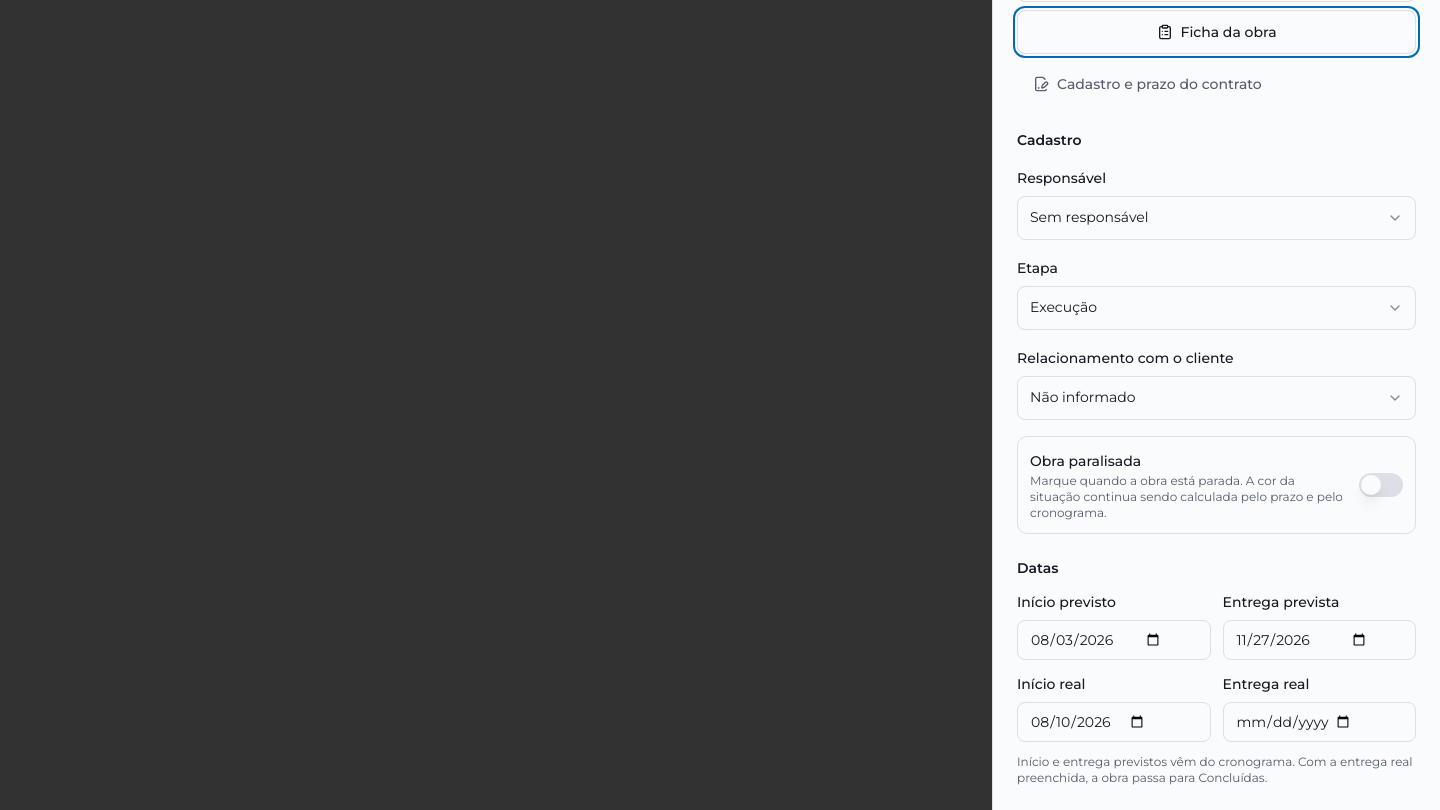
Test case: ObraDrawer › data prevista (vem do cronograma) pede confirmação antes de gravar
Later steps or results of the test are not shown.
(page scrolled)
Type "2026-12-04" into the date field labelled "Entrega prevista" at (1319, 640), box [1222, 620, 1416, 660]
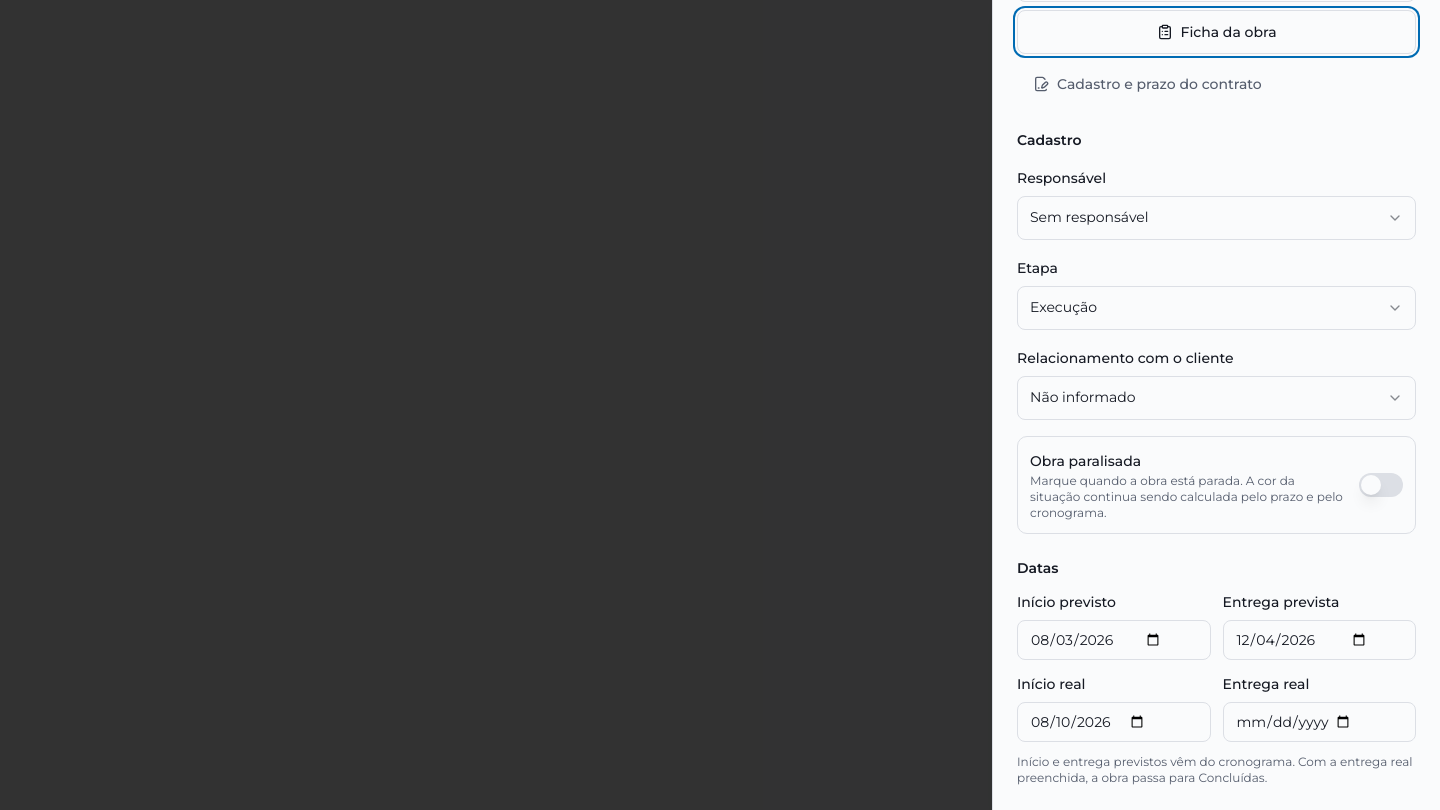
Leave the date field labelled "Entrega prevista", box [1222, 620, 1416, 660]
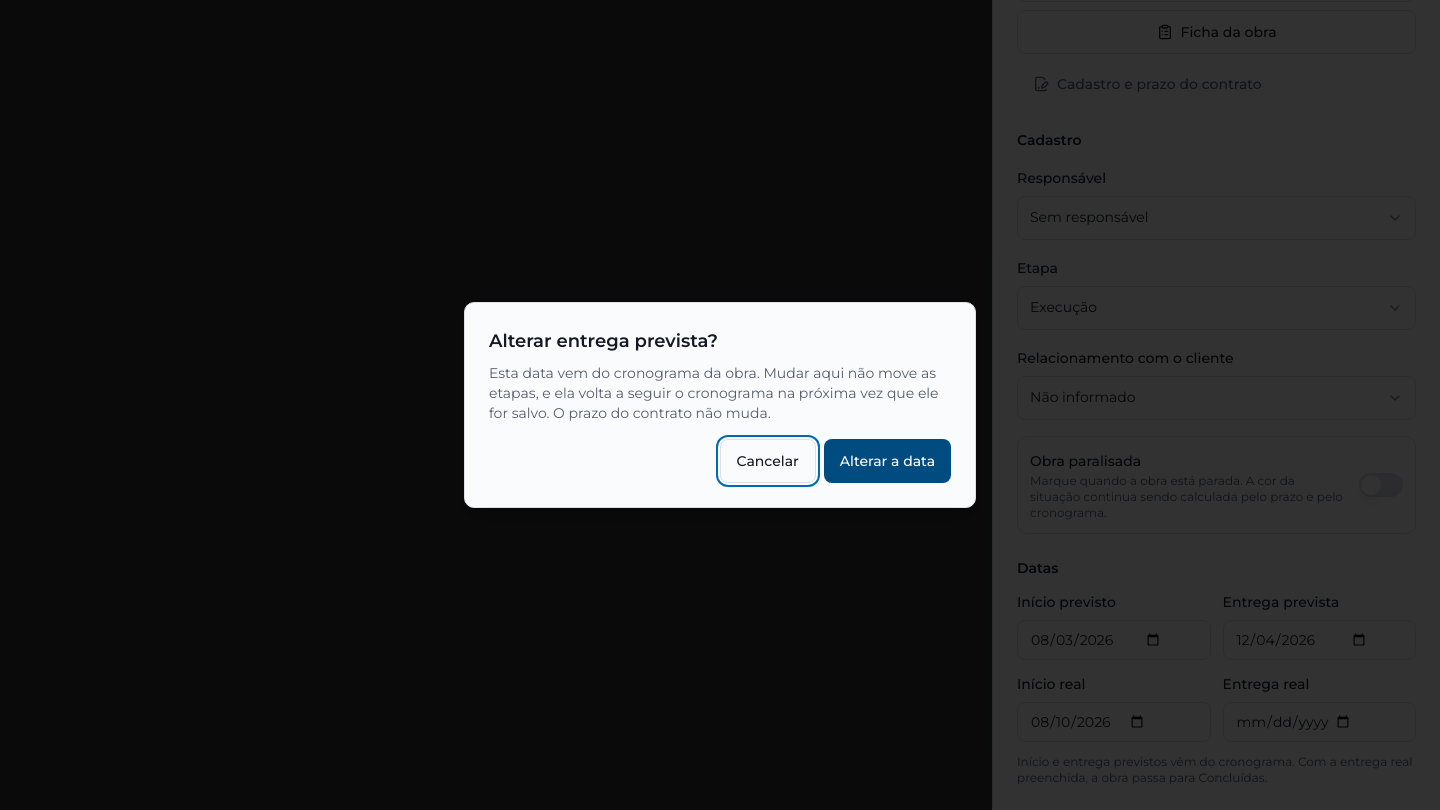
Now the heading "Alterar entrega prevista?" is shown, box [489, 330, 718, 352]
